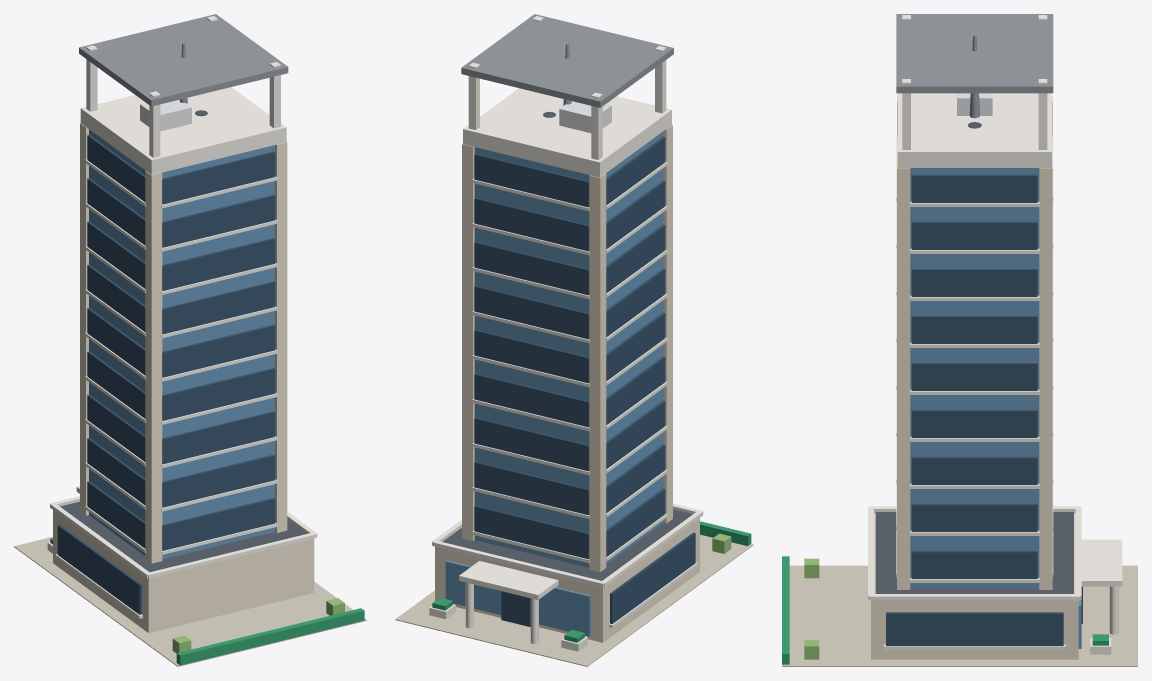
The picture shows the model from 3 angles, left to right: view 1: azimuth 30°, elevation 25°; view 2: azimuth 150°, elevation 25°; view 3: azimuth 270°, elevation 25°; orthographic projection. The views are drawn at different scales.
Visible parts, largest first — view 1: window_band (×19), tower, pier (×3), podium, crown_ring, crown_band, ground, parapet (×3), roof, hedge, crown_fin (×3), sill (×2) (+1 smaller); view 2: window_band (×19), tower, pier (×3), crown_ring, crown_band, ground, podium, sill (×9), storefront, parapet (×3), roof, canopy (+4 smaller); view 3: window_band (×10), tower, ground, crown_ring, pier (×2), crown_band, podium, sill (×10), roof, parapet (×4), canopy, crown_fin (×2) (+2 smaller).
Boxes of the visible parts, x1,y1,x2,y2 form: window_band (×19): (57,135,275,614); tower: (89,129,274,559); pier (×3): (80,123,287,563); podium: (53,510,314,632); crown_ring: (79,14,288,106); crown_band: (80,87,286,174); ground: (14,536,366,666); parapet (×3): (50,136,316,578); roof: (60,501,306,571); hedge: (176,608,364,665); crown_fin (×3): (86,45,280,157); sill (×2): (161,176,277,381); window_band (×19): (474,136,695,623); tower: (474,131,663,567); pier (×3): (462,124,672,571); crown_ring: (461,14,673,107); crown_band: (463,88,671,177); ground: (395,534,753,666); podium: (435,518,699,642); sill (×9): (472,179,589,563); storefront: (445,560,590,636); parapet (×3): (432,138,703,587); roof: (443,509,692,580); canopy: (459,561,558,599); window_band (×10): (886,174,1063,645); tower: (910,168,1039,588); ground: (782,565,1137,666); crown_ring: (896,14,1053,93); pier (×2): (897,162,1052,589); crown_band: (897,93,1051,167); podium: (871,513,1078,659); sill (×10): (883,201,1065,649); roof: (875,512,1073,593); parapet (×4): (868,161,1081,600); canopy: (1081,539,1122,586); crown_fin (×2): (902,79,1047,149).
Bounding box in the file's own units: 16 × 43.27 × 24.
